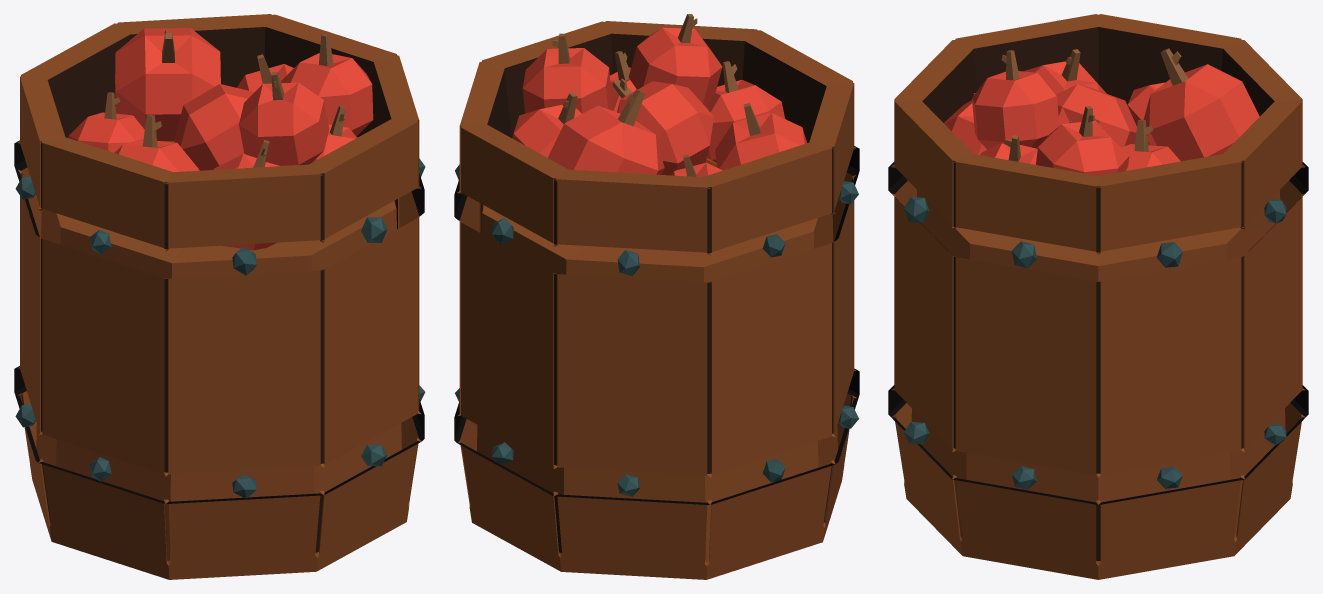
The model's file is Barrel_Apples.fbx.
The picture shows the model from 3 angles, left to right: view 1: azimuth 30°, elevation 25°; view 2: azimuth 150°, elevation 25°; view 3: azimuth 270°, elevation 25°; orthographic projection.
Parts seen in each view (by area): view 1: Barrel; view 2: Barrel; view 3: Barrel.
Part boxes in pixels (bbox=[...]): Barrel: bbox=[14, 14, 425, 579]; Barrel: bbox=[454, 14, 859, 579]; Barrel: bbox=[888, 14, 1308, 579].
Bounding box in the file's own units: 185 × 220 × 185.
